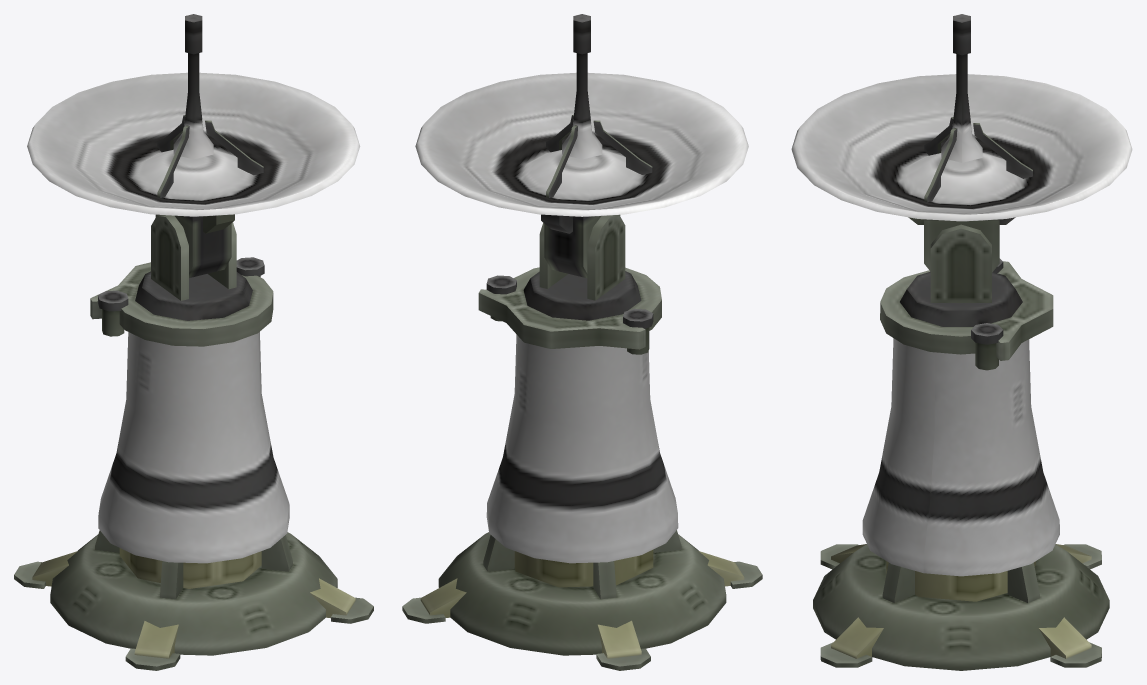
The model's file is Retranslator.FBX.
The picture shows the model from 3 angles, left to right: view 1: azimuth 30°, elevation 25°; view 2: azimuth 150°, elevation 25°; view 3: azimuth 270°, elevation 25°; orthographic projection. The views are drawn at different scales.
Visible parts, largest first — view 1: Retranslator, Retranslator_Dish, Retranslator_Base; view 2: Retranslator, Retranslator_Dish, Retranslator_Base; view 3: Retranslator, Retranslator_Dish, Retranslator_Base.
Boxes of the visible parts, x1=… form: Retranslator: x1=14, y1=257, x2=373, y2=670; Retranslator_Dish: x1=27, y1=14, x2=360, y2=277; Retranslator_Base: x1=135, y1=215, x2=252, y2=320; Retranslator: x1=402, y1=267, x2=762, y2=670; Retranslator_Dish: x1=415, y1=14, x2=748, y2=278; Retranslator_Base: x1=523, y1=215, x2=641, y2=320; Retranslator: x1=813, y1=258, x2=1109, y2=670; Retranslator_Dish: x1=791, y1=14, x2=1132, y2=272; Retranslator_Base: x1=900, y1=224, x2=1022, y2=326.
Size of the model in its own units: 636 by 1215 by 636.
